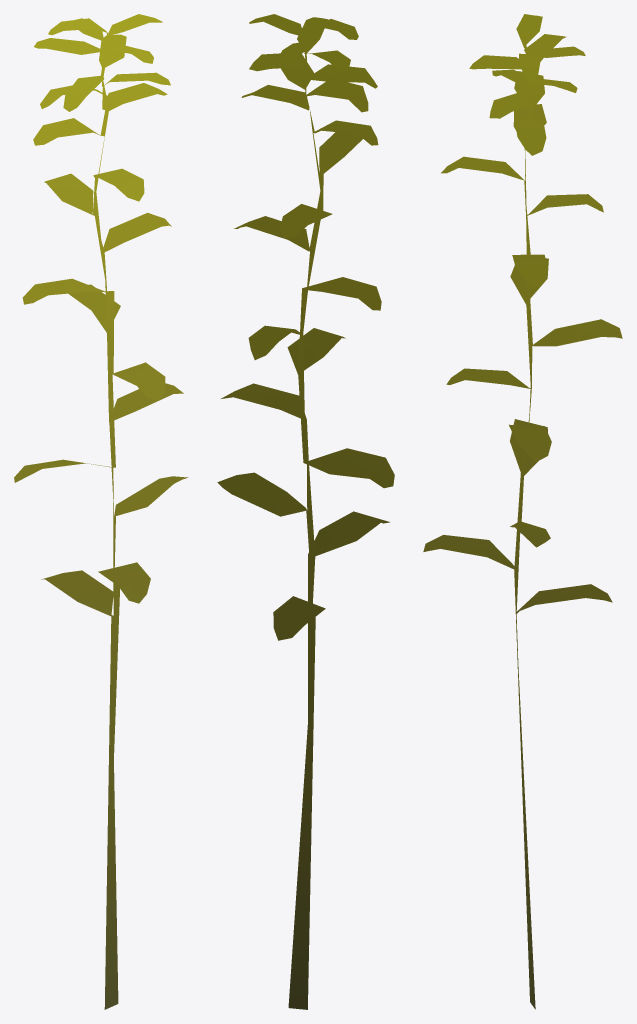
Rendered from Kelp_luan.fbx.
3 views of the same model, side by side, from view 1: azimuth 30°, elevation 25°; view 2: azimuth 150°, elevation 25°; view 3: azimuth 270°, elevation 25° (orthographic). The views are drawn at different scales.
Visible parts, largest first — view 1: Kelp; view 2: Kelp; view 3: Kelp.
Part boxes in pixels (x1,y1,x2,y2): Kelp: (14,14,187,1009); Kelp: (217,14,394,1009); Kelp: (423,14,622,1009).
Size of the model in its own units: 24.03 by 130 by 24.3.
Materials: 1 (1 with a texture image).
